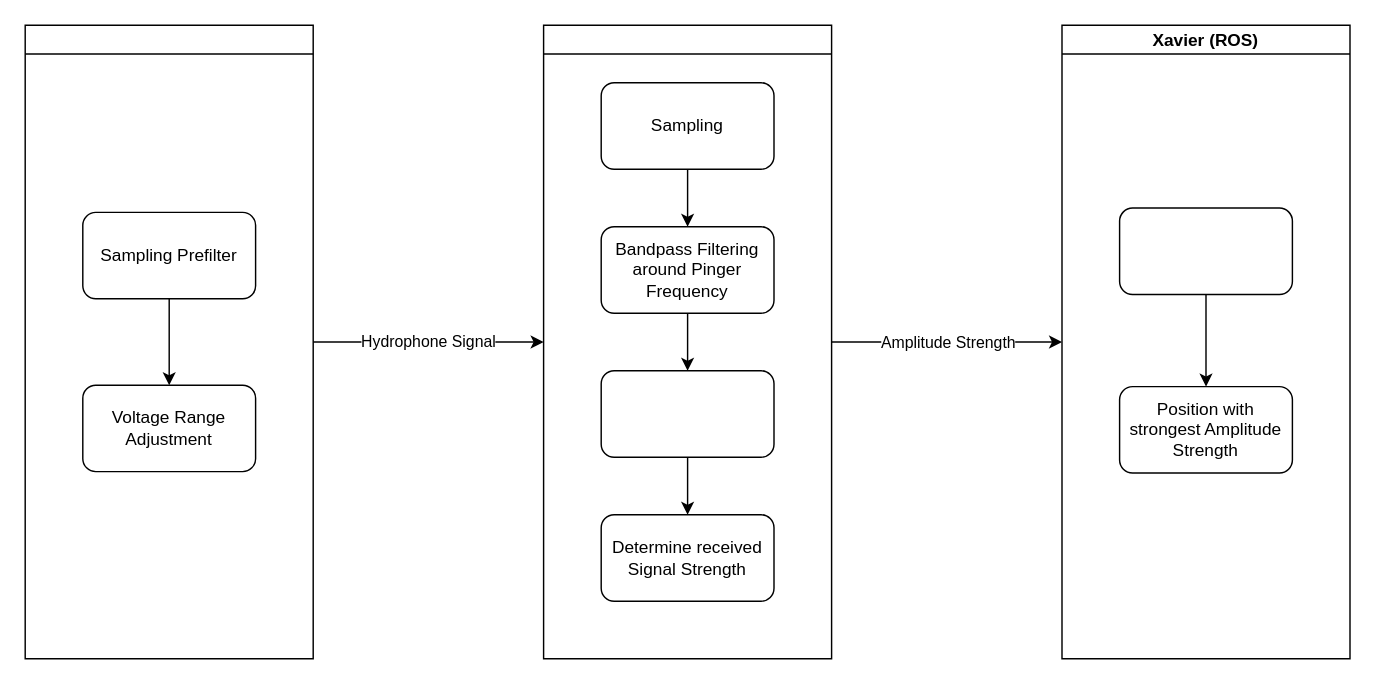
This 1375x684 diagram has some shape labels left out. Each missing label, with the box of its shape:
Acoustic Board 1.0: (24, 24, 313, 659)
Pulse Detection: (600, 369, 774, 457)
Store Drone Position and Received Signal Strengths: (1118, 207, 1292, 294)
Teensy 4.1: (542, 24, 832, 659)
